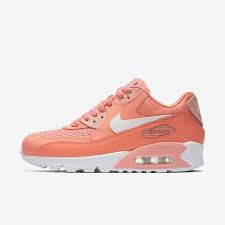nike: (107, 110, 176, 136)
